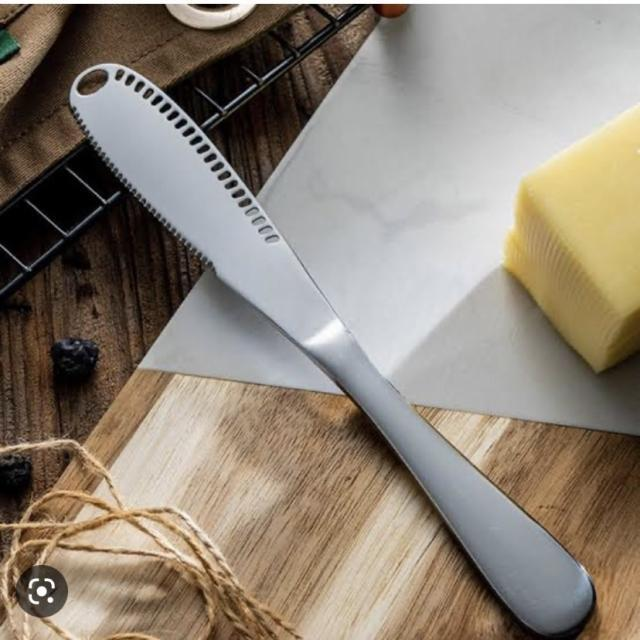Knife: (64, 44, 602, 638)
